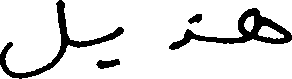ذ: (168, 13, 192, 49)
ل: (0, 0, 68, 78)
ه: (235, 6, 289, 45)
ي: (94, 25, 124, 70)
